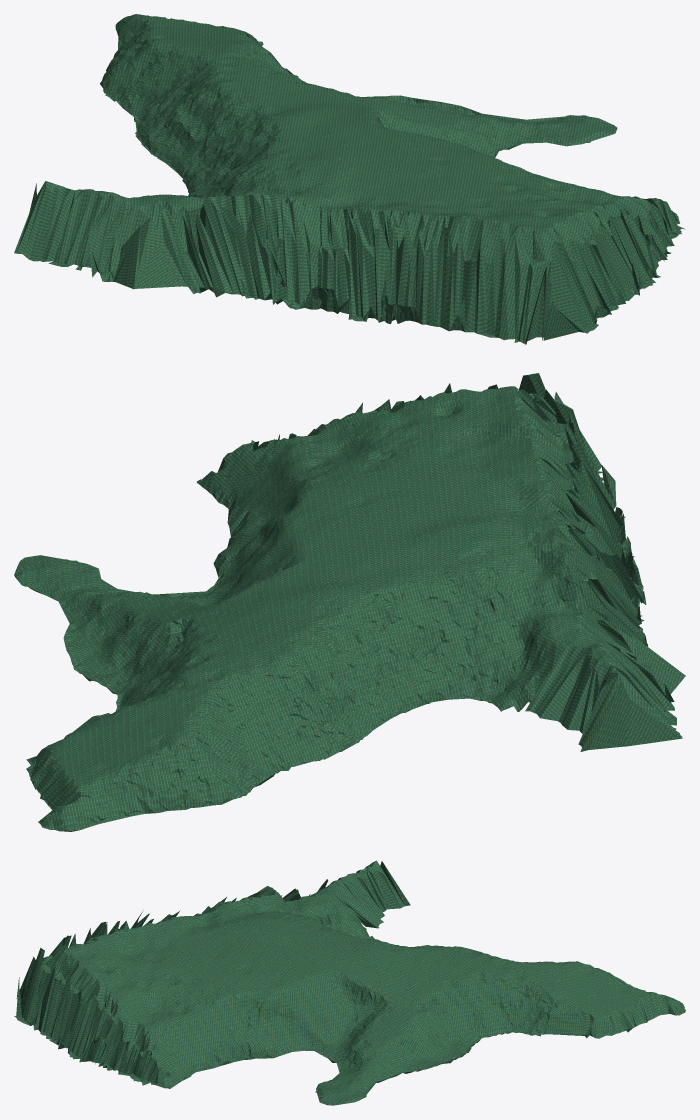
Rendered from tacc_seafloor.obj.
The picture shows the model from 3 angles, top to bottom: view 1: azimuth 30°, elevation 25°; view 2: azimuth 150°, elevation 25°; view 3: azimuth 270°, elevation 25°; orthographic projection. The views are drawn at different scales.
Parts seen in each view (by area): view 1: Tau_Autonomy_Center_Seabed_Shallow_15m; view 2: Tau_Autonomy_Center_Seabed_Shallow_15m; view 3: Tau_Autonomy_Center_Seabed_Shallow_15m.
Boxes of the visible parts, bbox=[...] form: Tau_Autonomy_Center_Seabed_Shallow_15m: bbox=[14, 14, 685, 344]; Tau_Autonomy_Center_Seabed_Shallow_15m: bbox=[14, 373, 685, 831]; Tau_Autonomy_Center_Seabed_Shallow_15m: bbox=[14, 860, 685, 1105].
Size of the model in its own units: 110 by 17 by 143.
